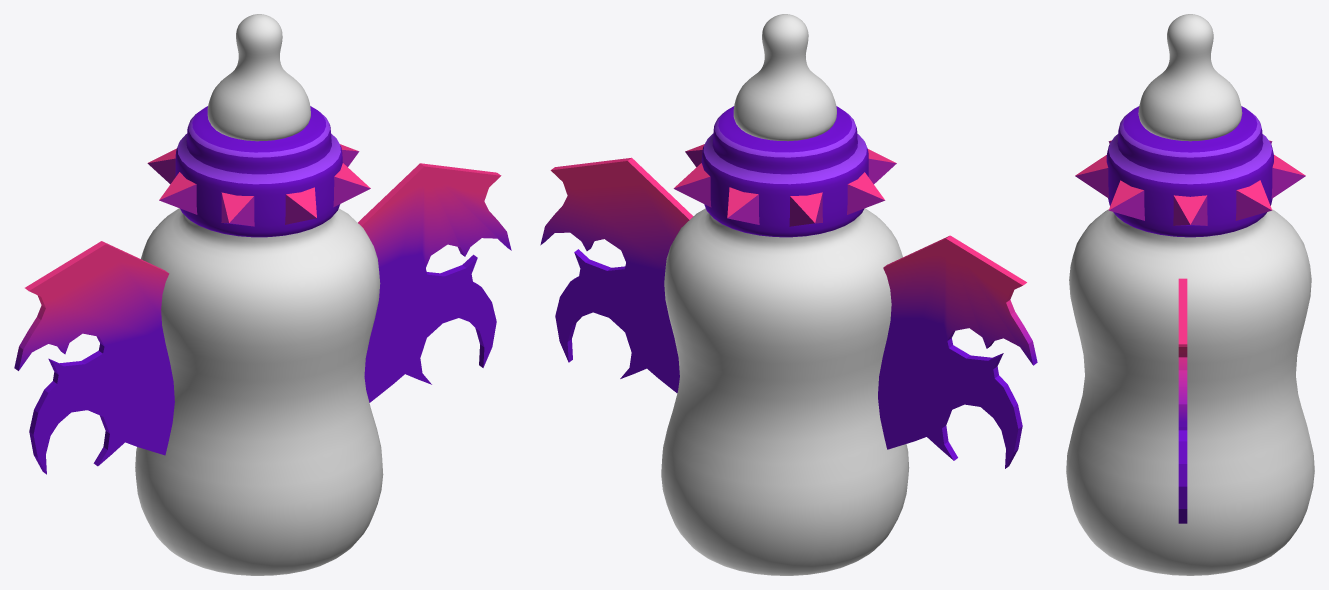
File: Pacifier03.fbx
The picture shows the model from 3 angles, left to right: view 1: azimuth 30°, elevation 25°; view 2: azimuth 150°, elevation 25°; view 3: azimuth 270°, elevation 25°; orthographic projection.
Parts seen in each view (by area): view 1: Circle.001, Cube; view 2: Circle.001, Cube; view 3: Circle.001, Cube.
Boxes of the visible parts, bbox=[...] form: Circle.001: bbox=[135, 14, 383, 575]; Cube: bbox=[14, 163, 511, 474]; Circle.001: bbox=[661, 14, 909, 575]; Cube: bbox=[540, 157, 1037, 468]; Circle.001: bbox=[1066, 14, 1314, 575]; Cube: bbox=[1178, 278, 1187, 523].
Size of the model in its own units: 1.31 by 1.33 by 0.5739.
